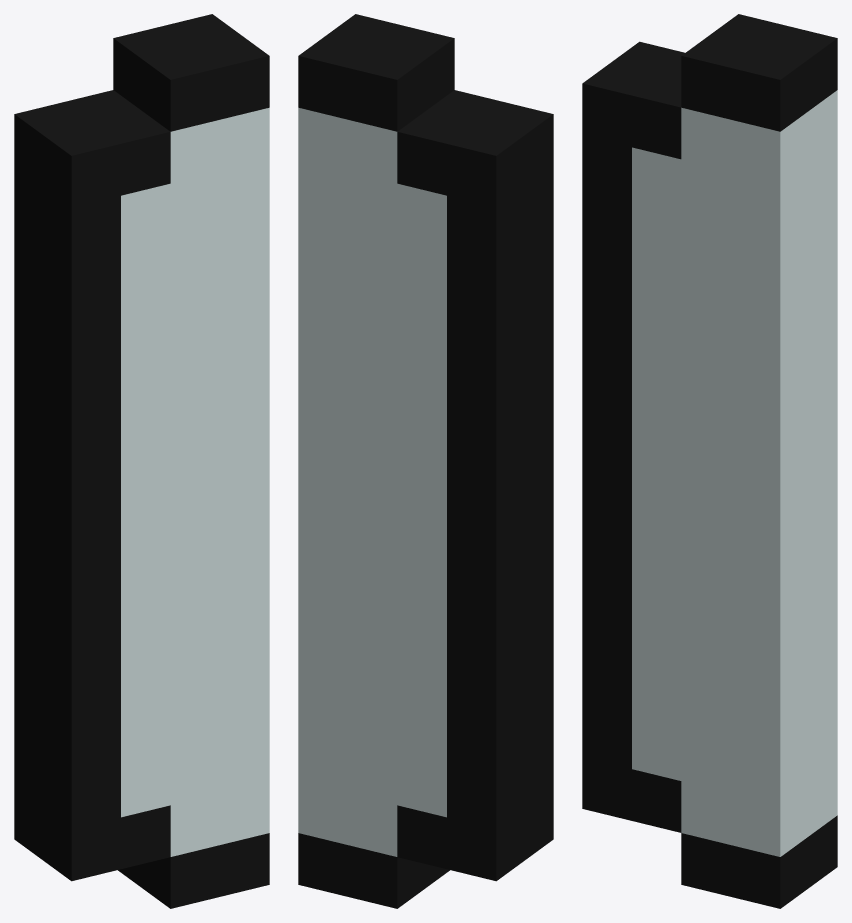
Rendered from Medieval Assets-218-Chat Bubble - End Cap.obj.
The picture shows the model from 3 angles, left to right: view 1: azimuth 30°, elevation 25°; view 2: azimuth 150°, elevation 25°; view 3: azimuth 330°, elevation 25°; orthographic projection.
Parts seen in each view (by area): view 1: Chat Bubble - End Cap; view 2: Chat Bubble - End Cap; view 3: Chat Bubble - End Cap.
Boxes of the visible parts, x1=… form: Chat Bubble - End Cap: x1=14, y1=14, x2=269, y2=908; Chat Bubble - End Cap: x1=298, y1=14, x2=553, y2=908; Chat Bubble - End Cap: x1=582, y1=14, x2=837, y2=908.
Size of the model in its own units: 0.4 by 1.6 by 0.2.
1 material, 1 textured.
